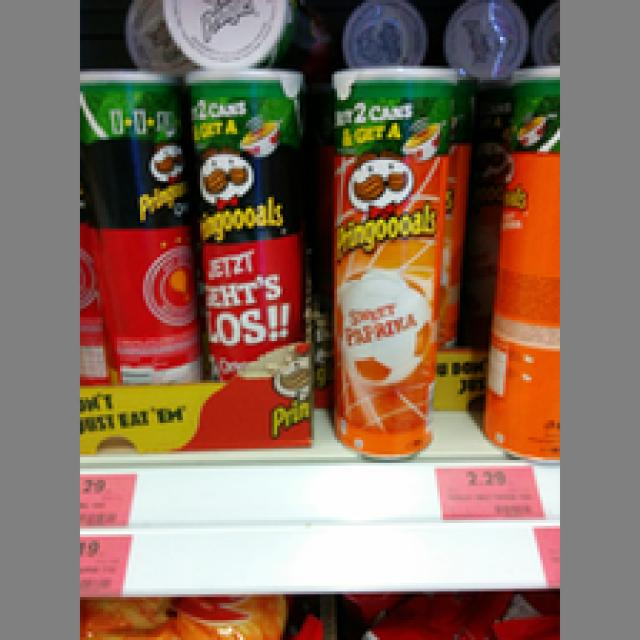groceries: (329, 60, 460, 460), (180, 66, 311, 380), (77, 66, 197, 383), (477, 63, 557, 460)
